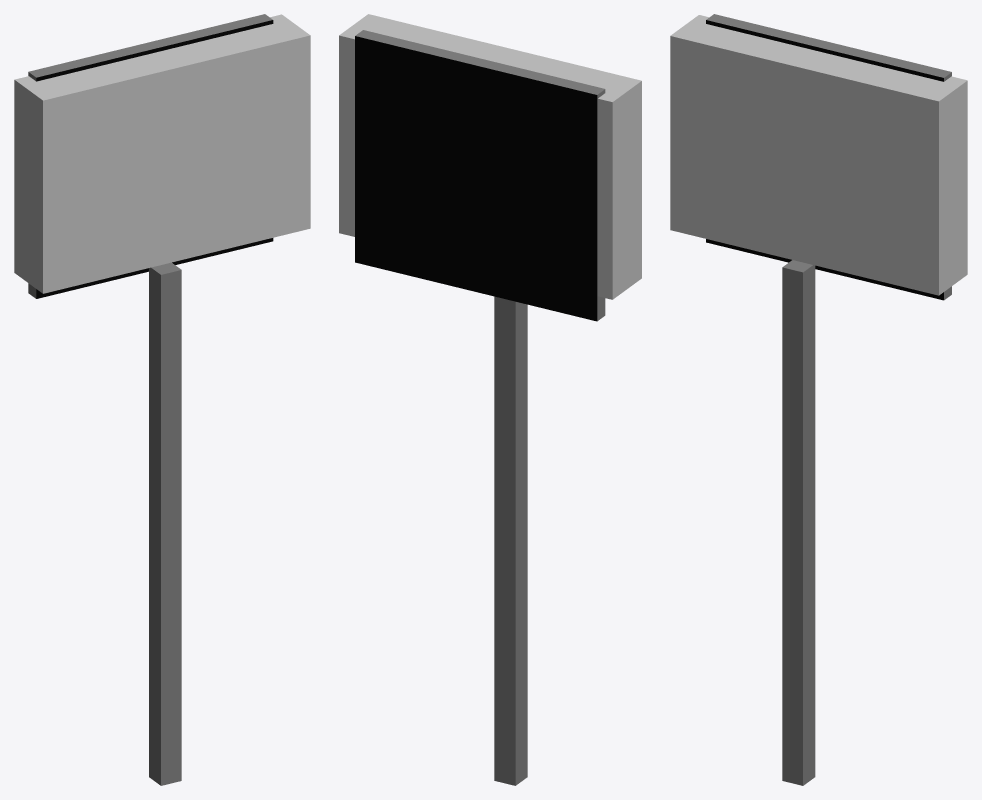
Rendered from paneldirSign.obj.
3 renders of one model, left to right at view 1: azimuth 30°, elevation 25°; view 2: azimuth 150°, elevation 25°; view 3: azimuth 330°, elevation 25°, orthographic. The views are drawn at different scales.
Visible parts, largest first — view 1: Cube.001, Cube.002, Cube_Cube.003; view 2: Cube_Cube.003, Cube.001, Cube.002; view 3: Cube.001, Cube.002, Cube_Cube.003.
Part boxes in pixels (x1,y1,x2,y2): Cube.001: (14, 14, 310, 293); Cube.002: (149, 262, 181, 785); Cube_Cube.003: (28, 14, 273, 298); Cube_Cube.003: (355, 30, 605, 321); Cube.001: (339, 14, 641, 299); Cube.002: (494, 296, 527, 785); Cube.001: (670, 15, 967, 295); Cube.002: (782, 260, 815, 785); Cube_Cube.003: (706, 14, 951, 300).
Bounding box in the file's own units: 2.54 × 6.48 × 0.5335.
